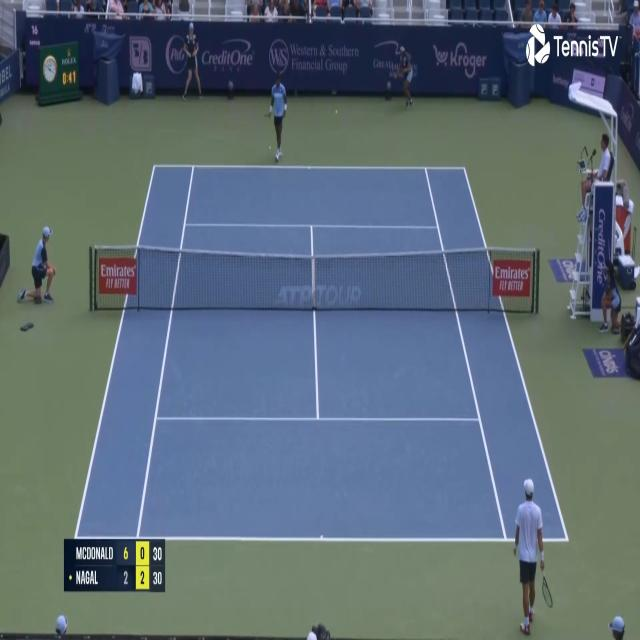tennis-player: (511, 476, 552, 638), (264, 68, 289, 163)
